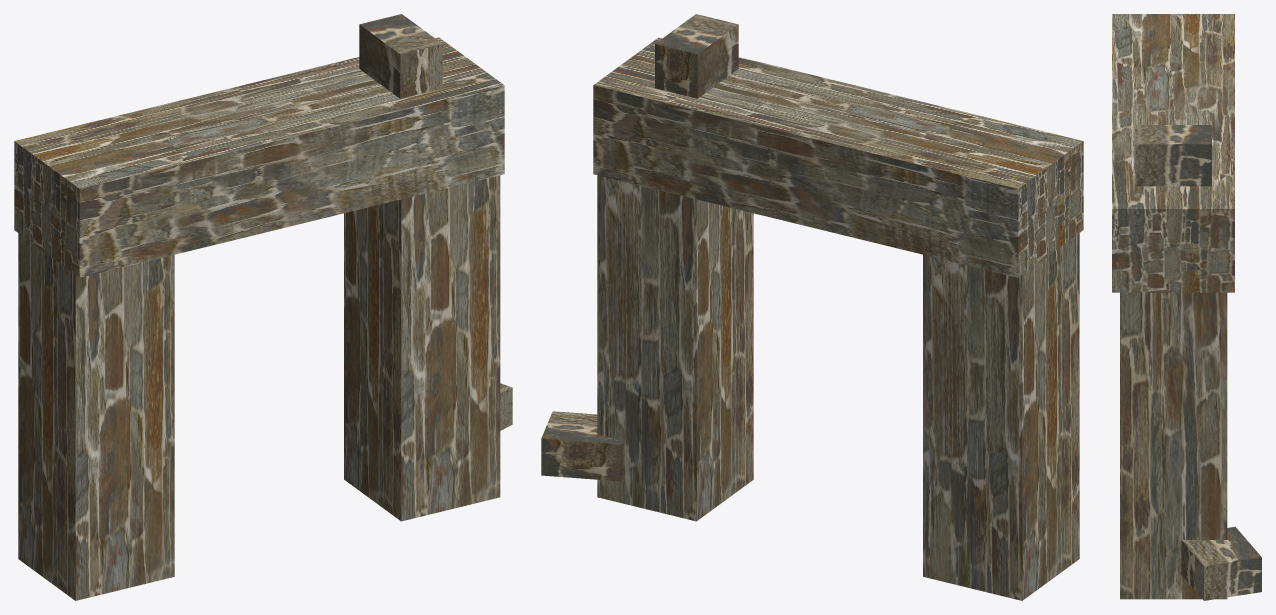
Rendered from structure_entry_arch.glb.
3 views of the same model, side by side, from view 1: azimuth 30°, elevation 25°; view 2: azimuth 150°, elevation 25°; view 3: azimuth 270°, elevation 25° (orthographic). The views are drawn at different scales.
Visible parts, largest first — view 1: ea_lintel, ea_pillar_l, ea_pillar_r, ea_tooth; view 2: ea_lintel, ea_pillar_l, ea_pillar_r, ea_tooth, ea_rubble; view 3: ea_pillar_r, ea_lintel, ea_tooth, ea_rubble.
Part boxes in pixels (bbox=[...]): ea_lintel: bbox=[14, 37, 504, 277]; ea_pillar_l: bbox=[18, 233, 174, 600]; ea_pillar_r: bbox=[344, 175, 500, 521]; ea_tooth: bbox=[359, 14, 442, 98]; ea_lintel: bbox=[593, 37, 1083, 277]; ea_pillar_l: bbox=[923, 233, 1079, 600]; ea_pillar_r: bbox=[597, 175, 753, 521]; ea_tooth: bbox=[655, 14, 738, 98]; ea_rubble: bbox=[541, 411, 623, 481]; ea_pillar_r: bbox=[1120, 292, 1227, 599]; ea_lintel: bbox=[1112, 14, 1234, 292]; ea_tooth: bbox=[1135, 125, 1211, 186]; ea_rubble: bbox=[1181, 526, 1261, 600].
Size of the model in its own units: 3.4 by 3.1 by 0.9736.
Materials: 1 (1 with a texture image).
